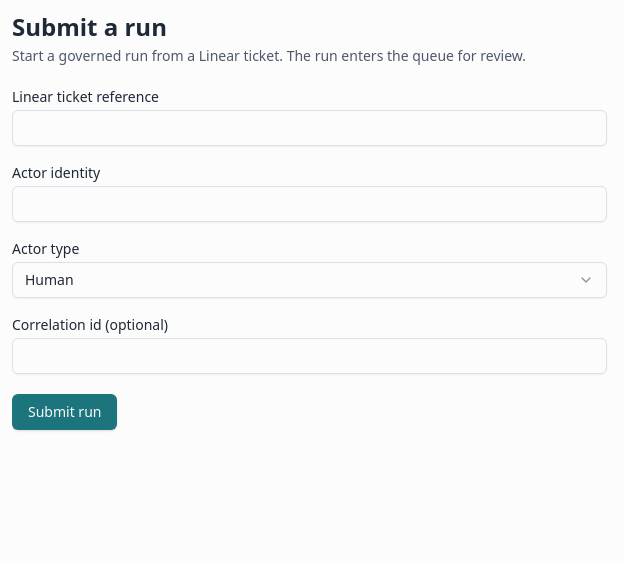
SubmitRunForm — post-submit lifecycle (review fixes D1/D2) › clears the success surface (and re-enables submit) when a field is edited after success (D1)
Type "LIN-2210" into the field labelled "Linear ticket reference".
click(309, 128); type("LIN-2210")  # box [12,110,607,146]
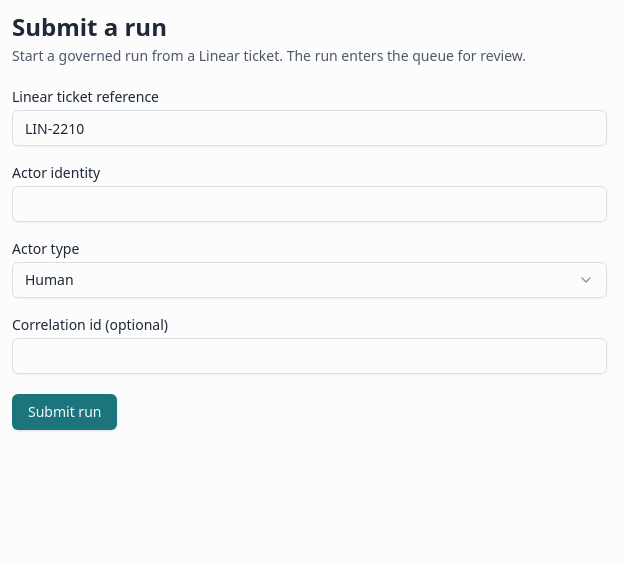
Type "alex@example.com" into the field labelled "Actor identity".
click(309, 204); type("alex@example.com")  # box [12,186,607,222]
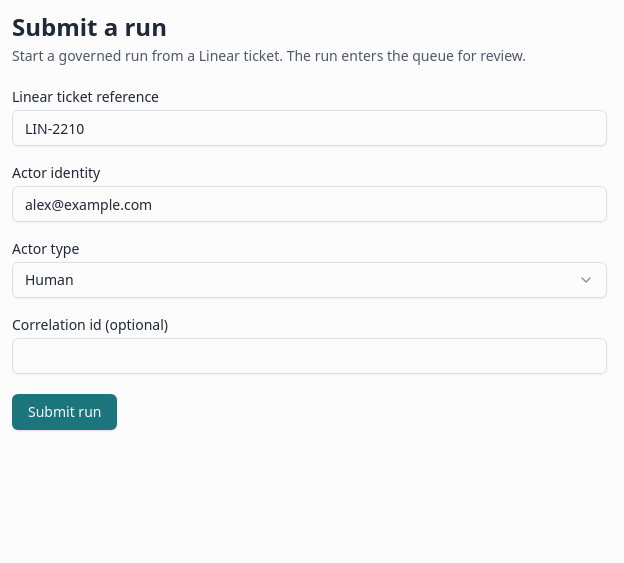
Click the button with test id "submit-run-button".
click(65, 412)  # box [12,394,117,430]
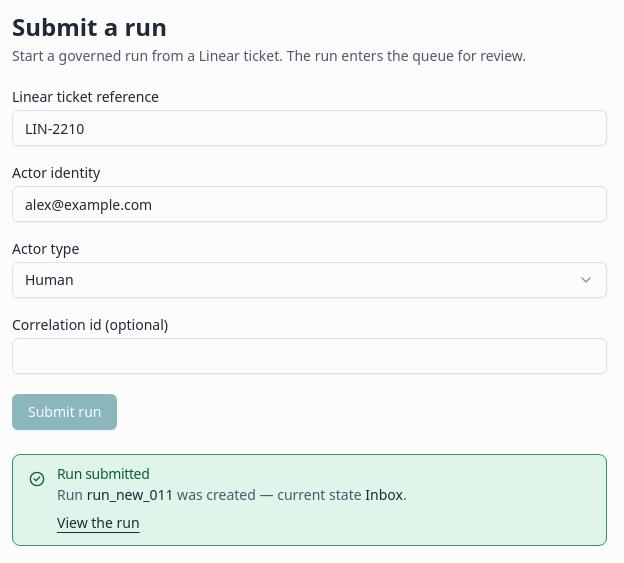
Check: the message "Run submitted Run run_new_011 was created — current state Inbox. View the run" is shown, box [12,454,607,546]
Replace the text in the field labelled "Linear ticket reference" with "LIN-2211" at (309, 128), box [12,110,607,146]
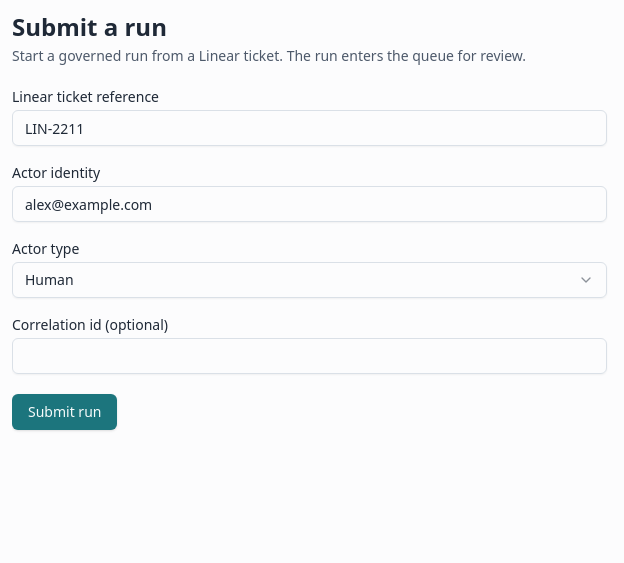
Check: the message with test id "submit-success" is gone
Check: the button with test id "submit-run-button" is enabled, box [12,394,117,430]
